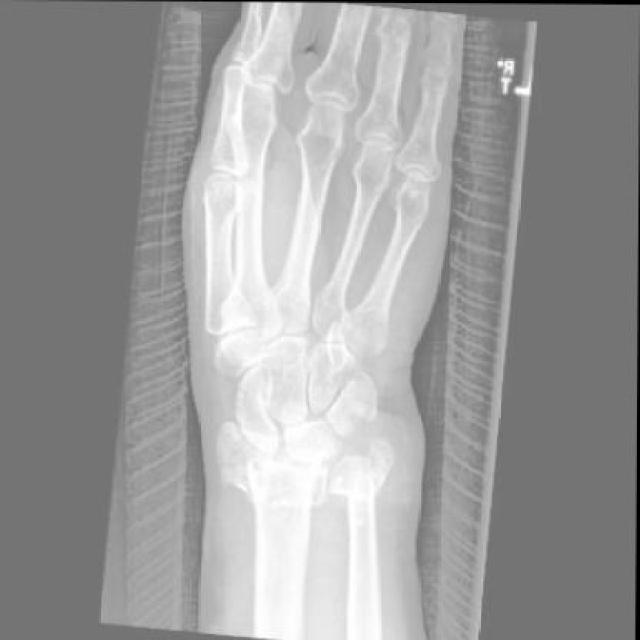Fracture: (220, 443, 341, 515), (330, 430, 398, 504), (337, 371, 382, 421)
